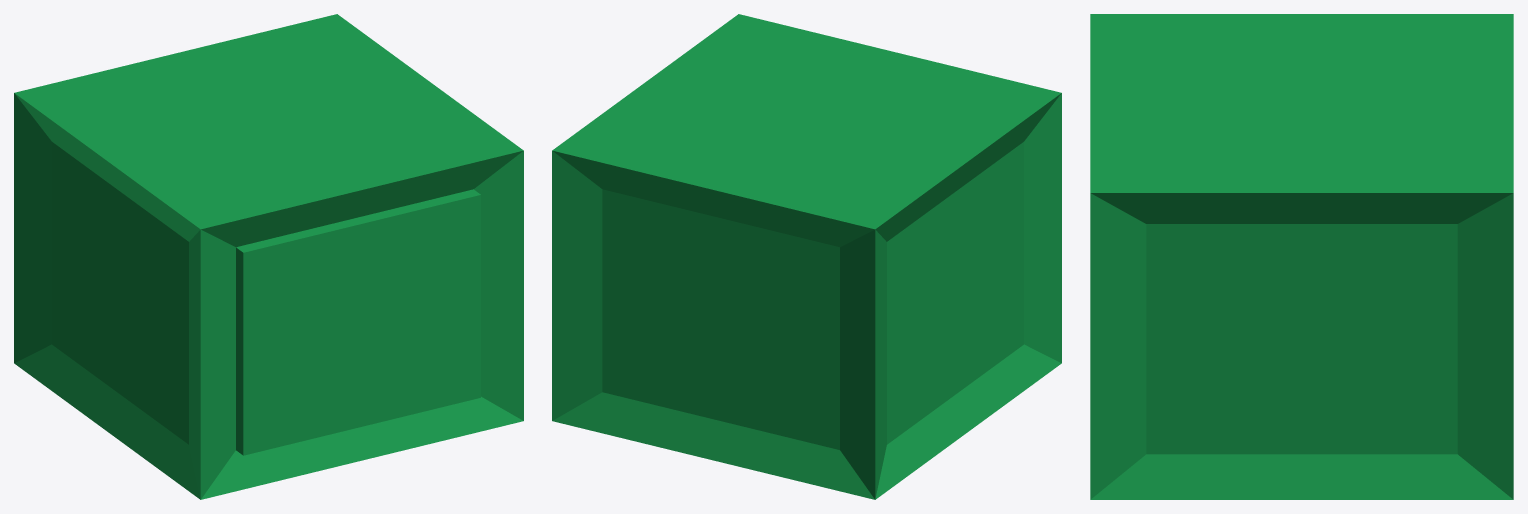
The model's file is InputSensor.obj.
The picture shows the model from 3 angles, left to right: view 1: azimuth 30°, elevation 25°; view 2: azimuth 150°, elevation 25°; view 3: azimuth 270°, elevation 25°; orthographic projection. The views are drawn at different scales.
Visible parts, largest first — view 1: Handle; view 2: Handle; view 3: Handle.
Part boxes in pixels (x1,y1,x2,y2): Handle: [14, 14, 523, 499]; Handle: [552, 14, 1061, 499]; Handle: [1090, 14, 1513, 499].
Bounding box in the file's own units: 0.6 × 0.48 × 0.6.
